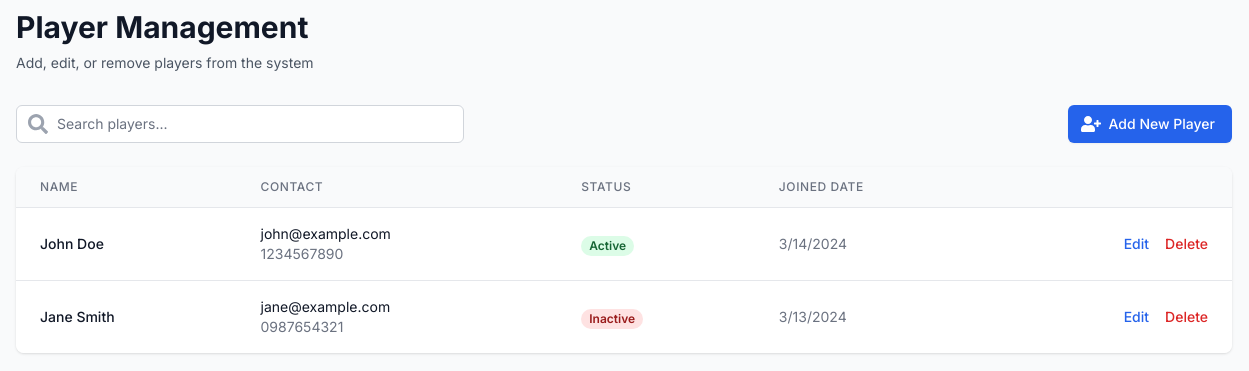
Scenario: AdminPage › filters players based on search input
Expected: the text "John Doe" is shown, [40,235,104,252]
Step 1. Type "Jane" into the field with placeholder "Search players..." → (240, 124), box [16,105,464,143]
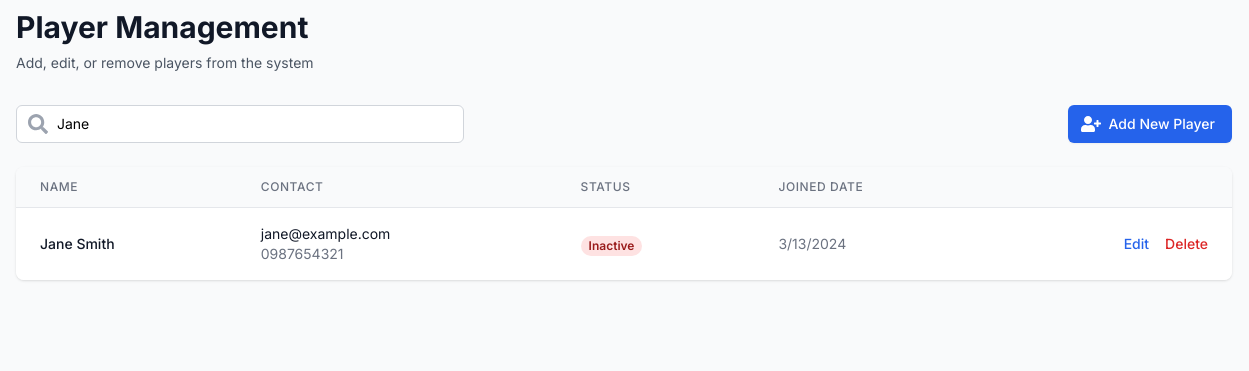
Expected: the text "Jane Smith" is shown, [40,235,115,252]
Result: the text "John Doe" is gone
